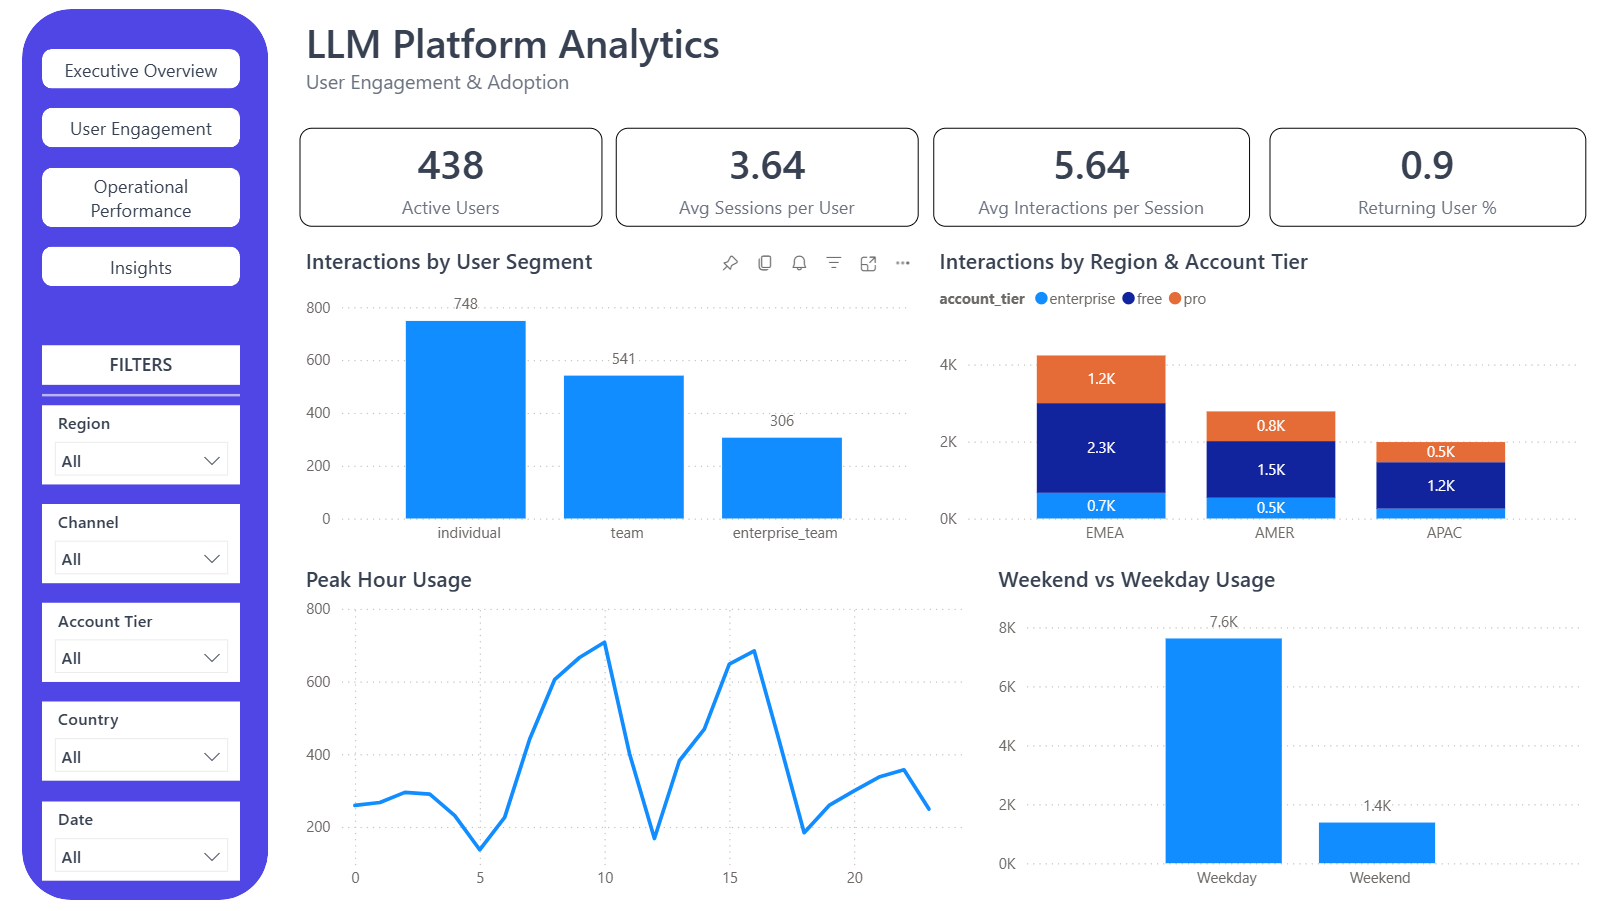

The page's visual inventory and layout, read from the dashboard file:
{"tool":"powerbi","page":{"name":"User Engagement","canvas":[1280,720],"ordinal":1},"visuals":[{"type":"shape","box":[0,0,199,720],"z":0},{"type":"textbox","box":[224,0,1056,80],"z":1000},{"type":"actionButton","box":[16,32,160,32],"z":2000},{"type":"actionButton","box":[16,80,160,32],"z":3000},{"type":"actionButton","box":[16,128,160,48],"z":4000},{"type":"actionButton","box":[16,192,160,32],"z":5000},{"type":"textbox","box":[16,272,160,32],"z":6000},{"type":"shape","box":[16,304,160,16],"z":7000},{"type":"slicer","fields":{"Values":["llm_system_interactions_cleaned.region"]},"box":[16,320,160,64],"z":8000},{"type":"slicer","fields":{"Values":["llm_system_interactions_cleaned.channel"]},"box":[16,400,160,64],"z":9000},{"type":"slicer","fields":{"Values":["llm_system_interactions_cleaned.timestamp_utc"]},"box":[16,640,160,64],"z":10000},{"type":"slicer","fields":{"Values":["llm_system_interactions_cleaned.country_code"]},"box":[16,560,160,64],"z":11000},{"type":"slicer","fields":{"Values":["llm_system_interactions_cleaned.account_tier"]},"box":[16,480,160,64],"z":12000},{"type":"card","fields":{"Values":["llm_system_interactions_cleaned.Active Users"]},"box":[224,96,245,80],"z":13000},{"type":"card","fields":{"Values":["llm_system_interactions_cleaned.Avg Sessions per User"]},"box":[480,96,245,80],"z":14000},{"type":"card","fields":{"Values":["llm_system_interactions_cleaned.Avg Interactions per Session"]},"box":[736,96,256,80],"z":15000},{"type":"card","fields":{"Values":["llm_system_interactions_cleaned.Returning User %"]},"box":[1008,96,256,80],"z":16000},{"type":"clusteredColumnChart","title":"Interactions by User Segment","fields":{"Category":["llm_system_interactions_cleaned.segment"],"Y":["llm_system_interactions_cleaned.Total Sessions"]},"box":[224,192,500,250],"z":17000},{"type":"columnChart","title":"Interactions by Region & Account Tier","fields":{"Category":["llm_system_interactions_cleaned.region"],"Y":["llm_system_interactions_cleaned.Total Interactions"],"Series":["llm_system_interactions_cleaned.account_tier"]},"box":[736,192,528,250],"z":18000},{"type":"lineChart","title":"Peak Hour Usage","fields":{"Category":["llm_system_interactions_cleaned.hour_of_day_utc"],"Y":["llm_system_interactions_cleaned.Total Interactions"]},"box":[224,448,544,272],"z":19000},{"type":"clusteredColumnChart","title":"Weekend vs Weekday Usage","fields":{"Y":["llm_system_interactions_cleaned.Total Interactions"],"Category":["llm_system_interactions_cleaned.Day Type"]},"box":[784,448,480,272],"z":20000}]}

Visuals, with their boxes in screenshot pixels (x1, y1, x2, y2), scaled from the page's 1280x720 canvas onto the 1611x911 screenshot:
shape: region(0, 0, 250, 910)
textbox: region(282, 0, 1610, 101)
actionButton: region(20, 40, 222, 81)
actionButton: region(20, 101, 222, 142)
actionButton: region(20, 162, 222, 223)
actionButton: region(20, 243, 222, 283)
textbox: region(20, 344, 222, 385)
shape: region(20, 385, 222, 405)
slicer - llm_system_interactions_cleaned.region: region(20, 405, 222, 486)
slicer - llm_system_interactions_cleaned.channel: region(20, 506, 222, 587)
slicer - llm_system_interactions_cleaned.timestamp_utc: region(20, 810, 222, 891)
slicer - llm_system_interactions_cleaned.country_code: region(20, 709, 222, 790)
slicer - llm_system_interactions_cleaned.account_tier: region(20, 607, 222, 688)
card - llm_system_interactions_cleaned.Active Users: region(282, 121, 590, 223)
card - llm_system_interactions_cleaned.Avg Sessions per User: region(604, 121, 912, 223)
card - llm_system_interactions_cleaned.Avg Interactions per Session: region(926, 121, 1249, 223)
card - llm_system_interactions_cleaned.Returning User %: region(1269, 121, 1591, 223)
"Interactions by User Segment" clusteredColumnChart: region(282, 243, 911, 559)
"Interactions by Region & Account Tier" columnChart: region(926, 243, 1591, 559)
"Peak Hour Usage" lineChart: region(282, 567, 967, 910)
"Weekend vs Weekday Usage" clusteredColumnChart: region(987, 567, 1591, 910)
